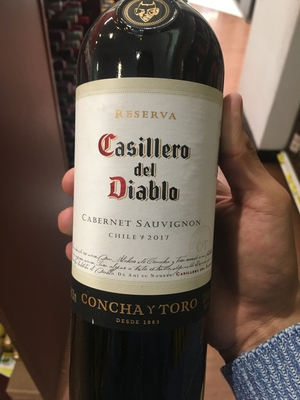casillero del diablo cabernet sauvignon: (69, 13, 222, 400)
